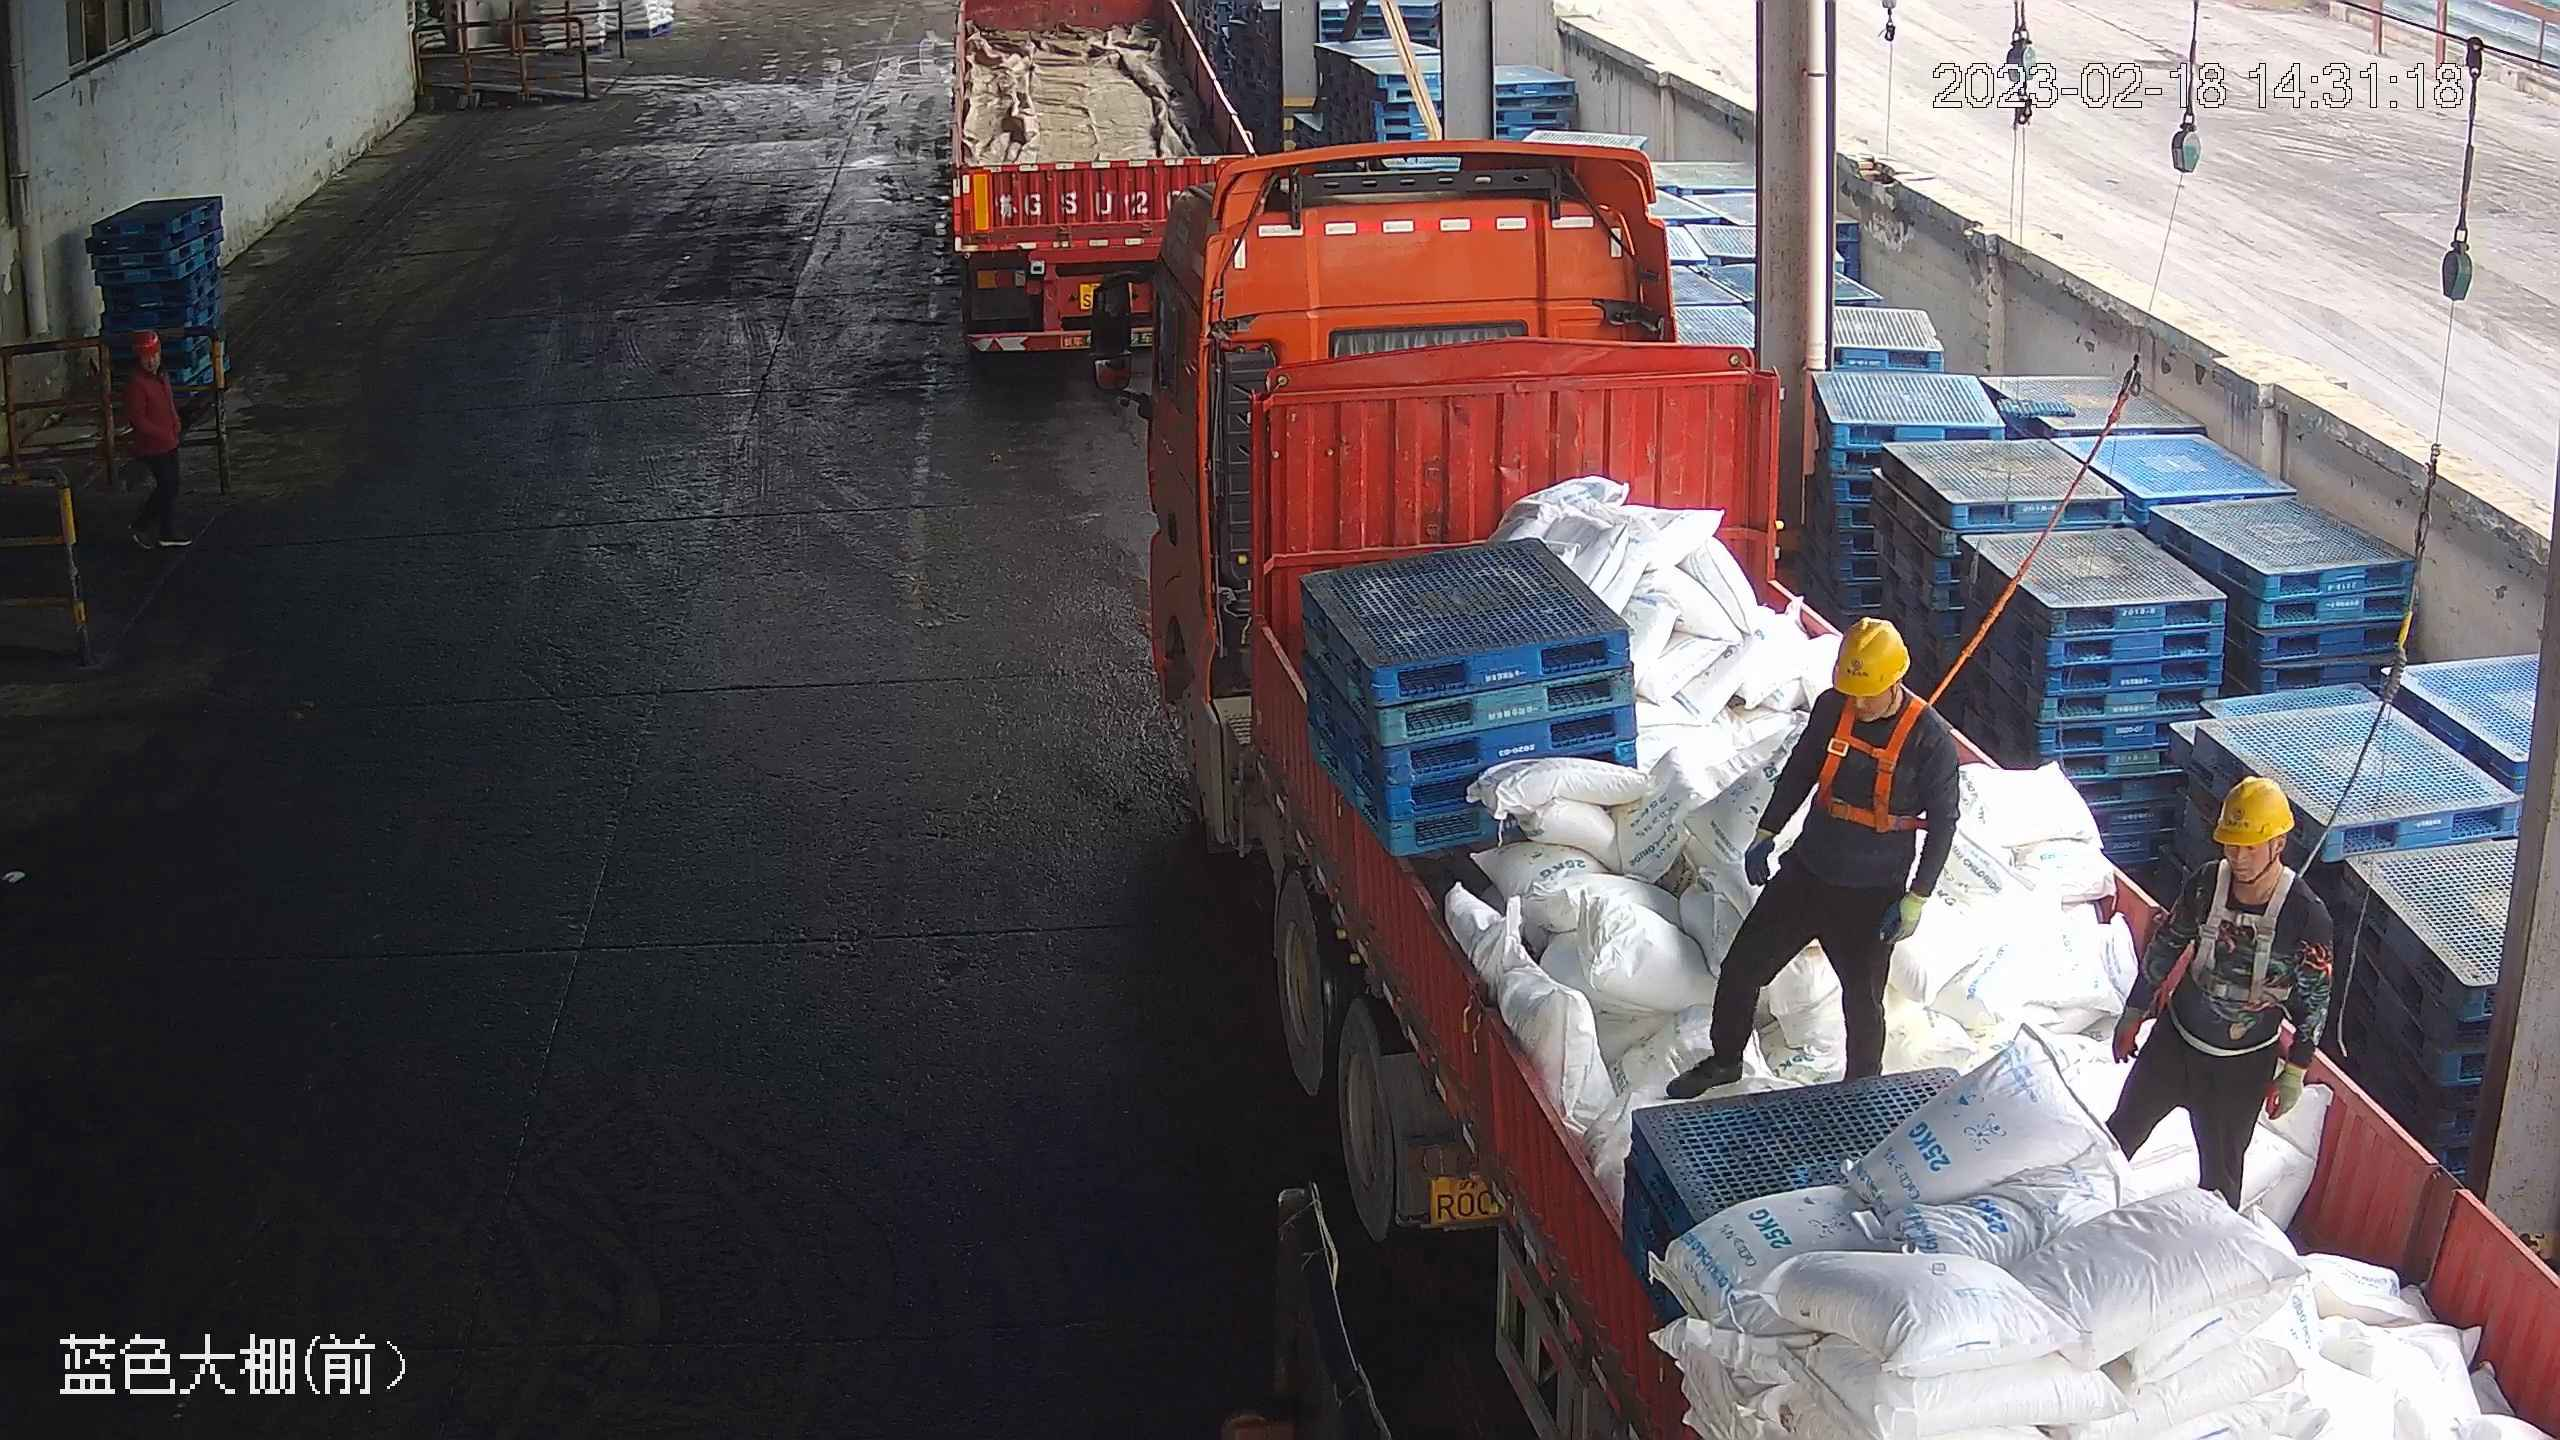belt: (1810, 681, 1932, 830), (2188, 866, 2308, 1010)
head: (2173, 771, 2332, 940), (1794, 612, 1955, 771), (120, 334, 178, 390)
helmet: (1829, 613, 1909, 697), (2208, 772, 2295, 848), (133, 328, 164, 359)
people: (1666, 616, 1964, 1104), (2098, 775, 2339, 1227), (112, 331, 198, 545)
truck: (1084, 131, 2529, 1440), (935, 1, 1269, 369)
